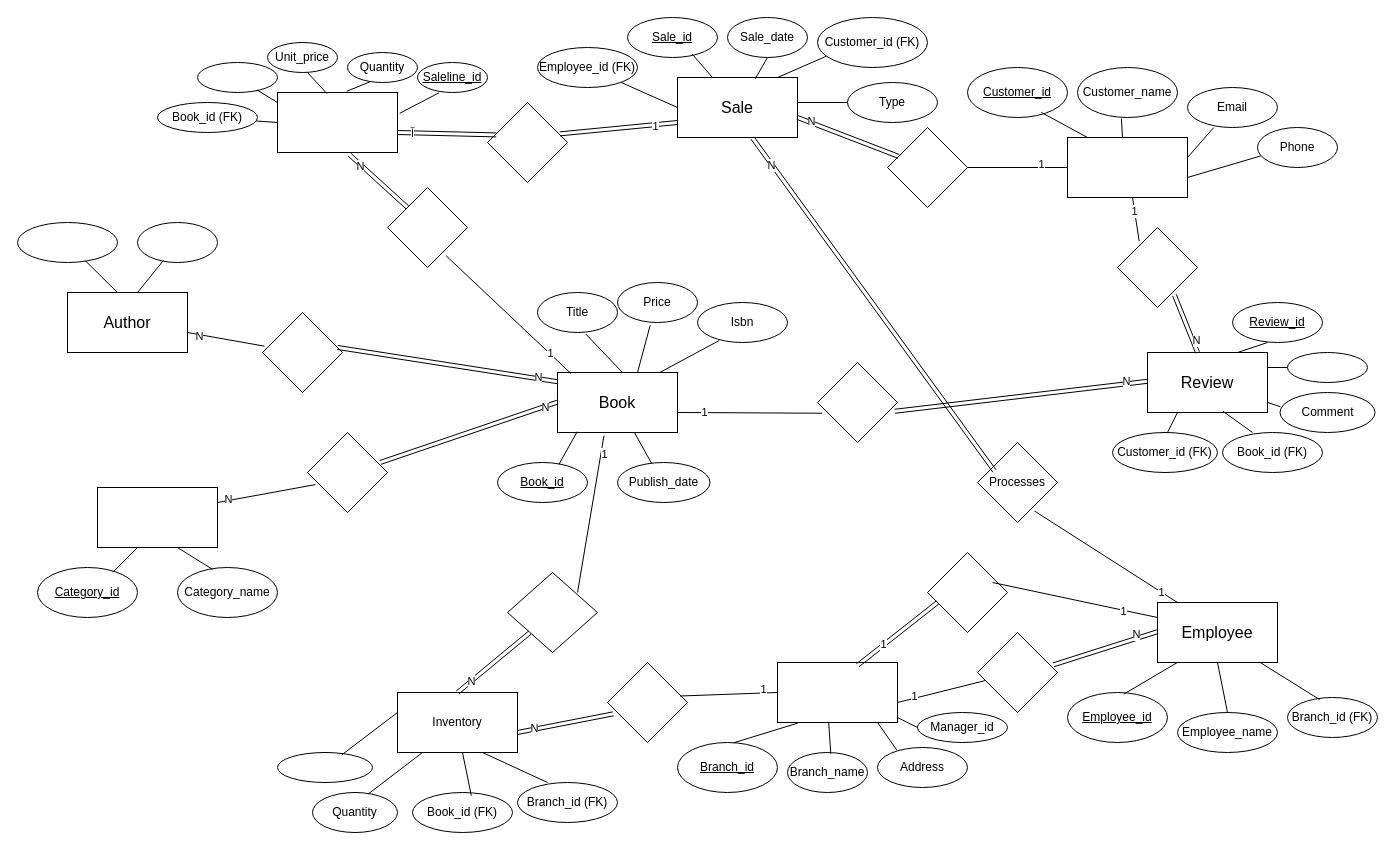
This 1395x850 diagram has some shape labels left out. The shapes that lost their labels are listed below. From the top down, each one's centre as x and y in pixels, then its label:
point (237, 77): Sale_id (FK)
point (337, 122): SaleLine
point (527, 142): Contains
point (927, 167): Purchases
point (1127, 167): Customer
point (67, 242): Author_id
point (177, 242): Author_name
point (427, 227): Includes
point (1157, 267): Writes
point (302, 352): Written_by
point (1327, 367): Rating
point (857, 402): About
point (347, 472): Belongs_to
point (157, 517): Category
point (552, 612): Has_inventory
point (967, 592): Manages
point (837, 692): Branch
point (1017, 672): Works_in
point (647, 702): Stored_in
point (324, 767): Inventory_id
